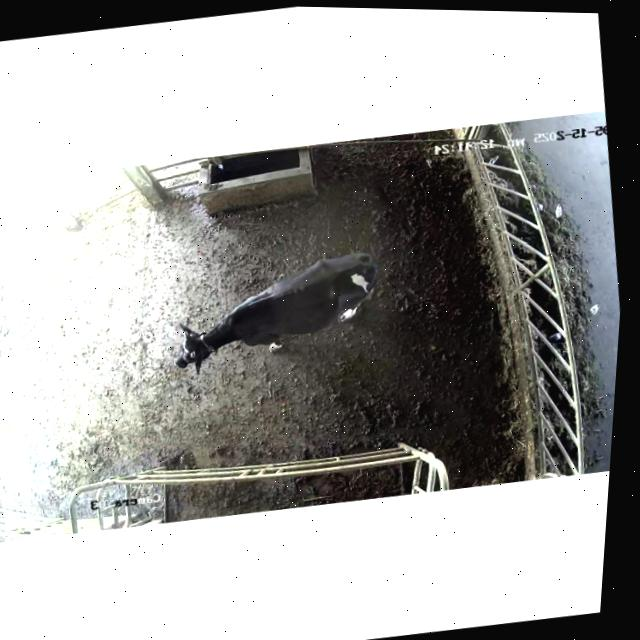stand: (148, 231, 399, 399)
